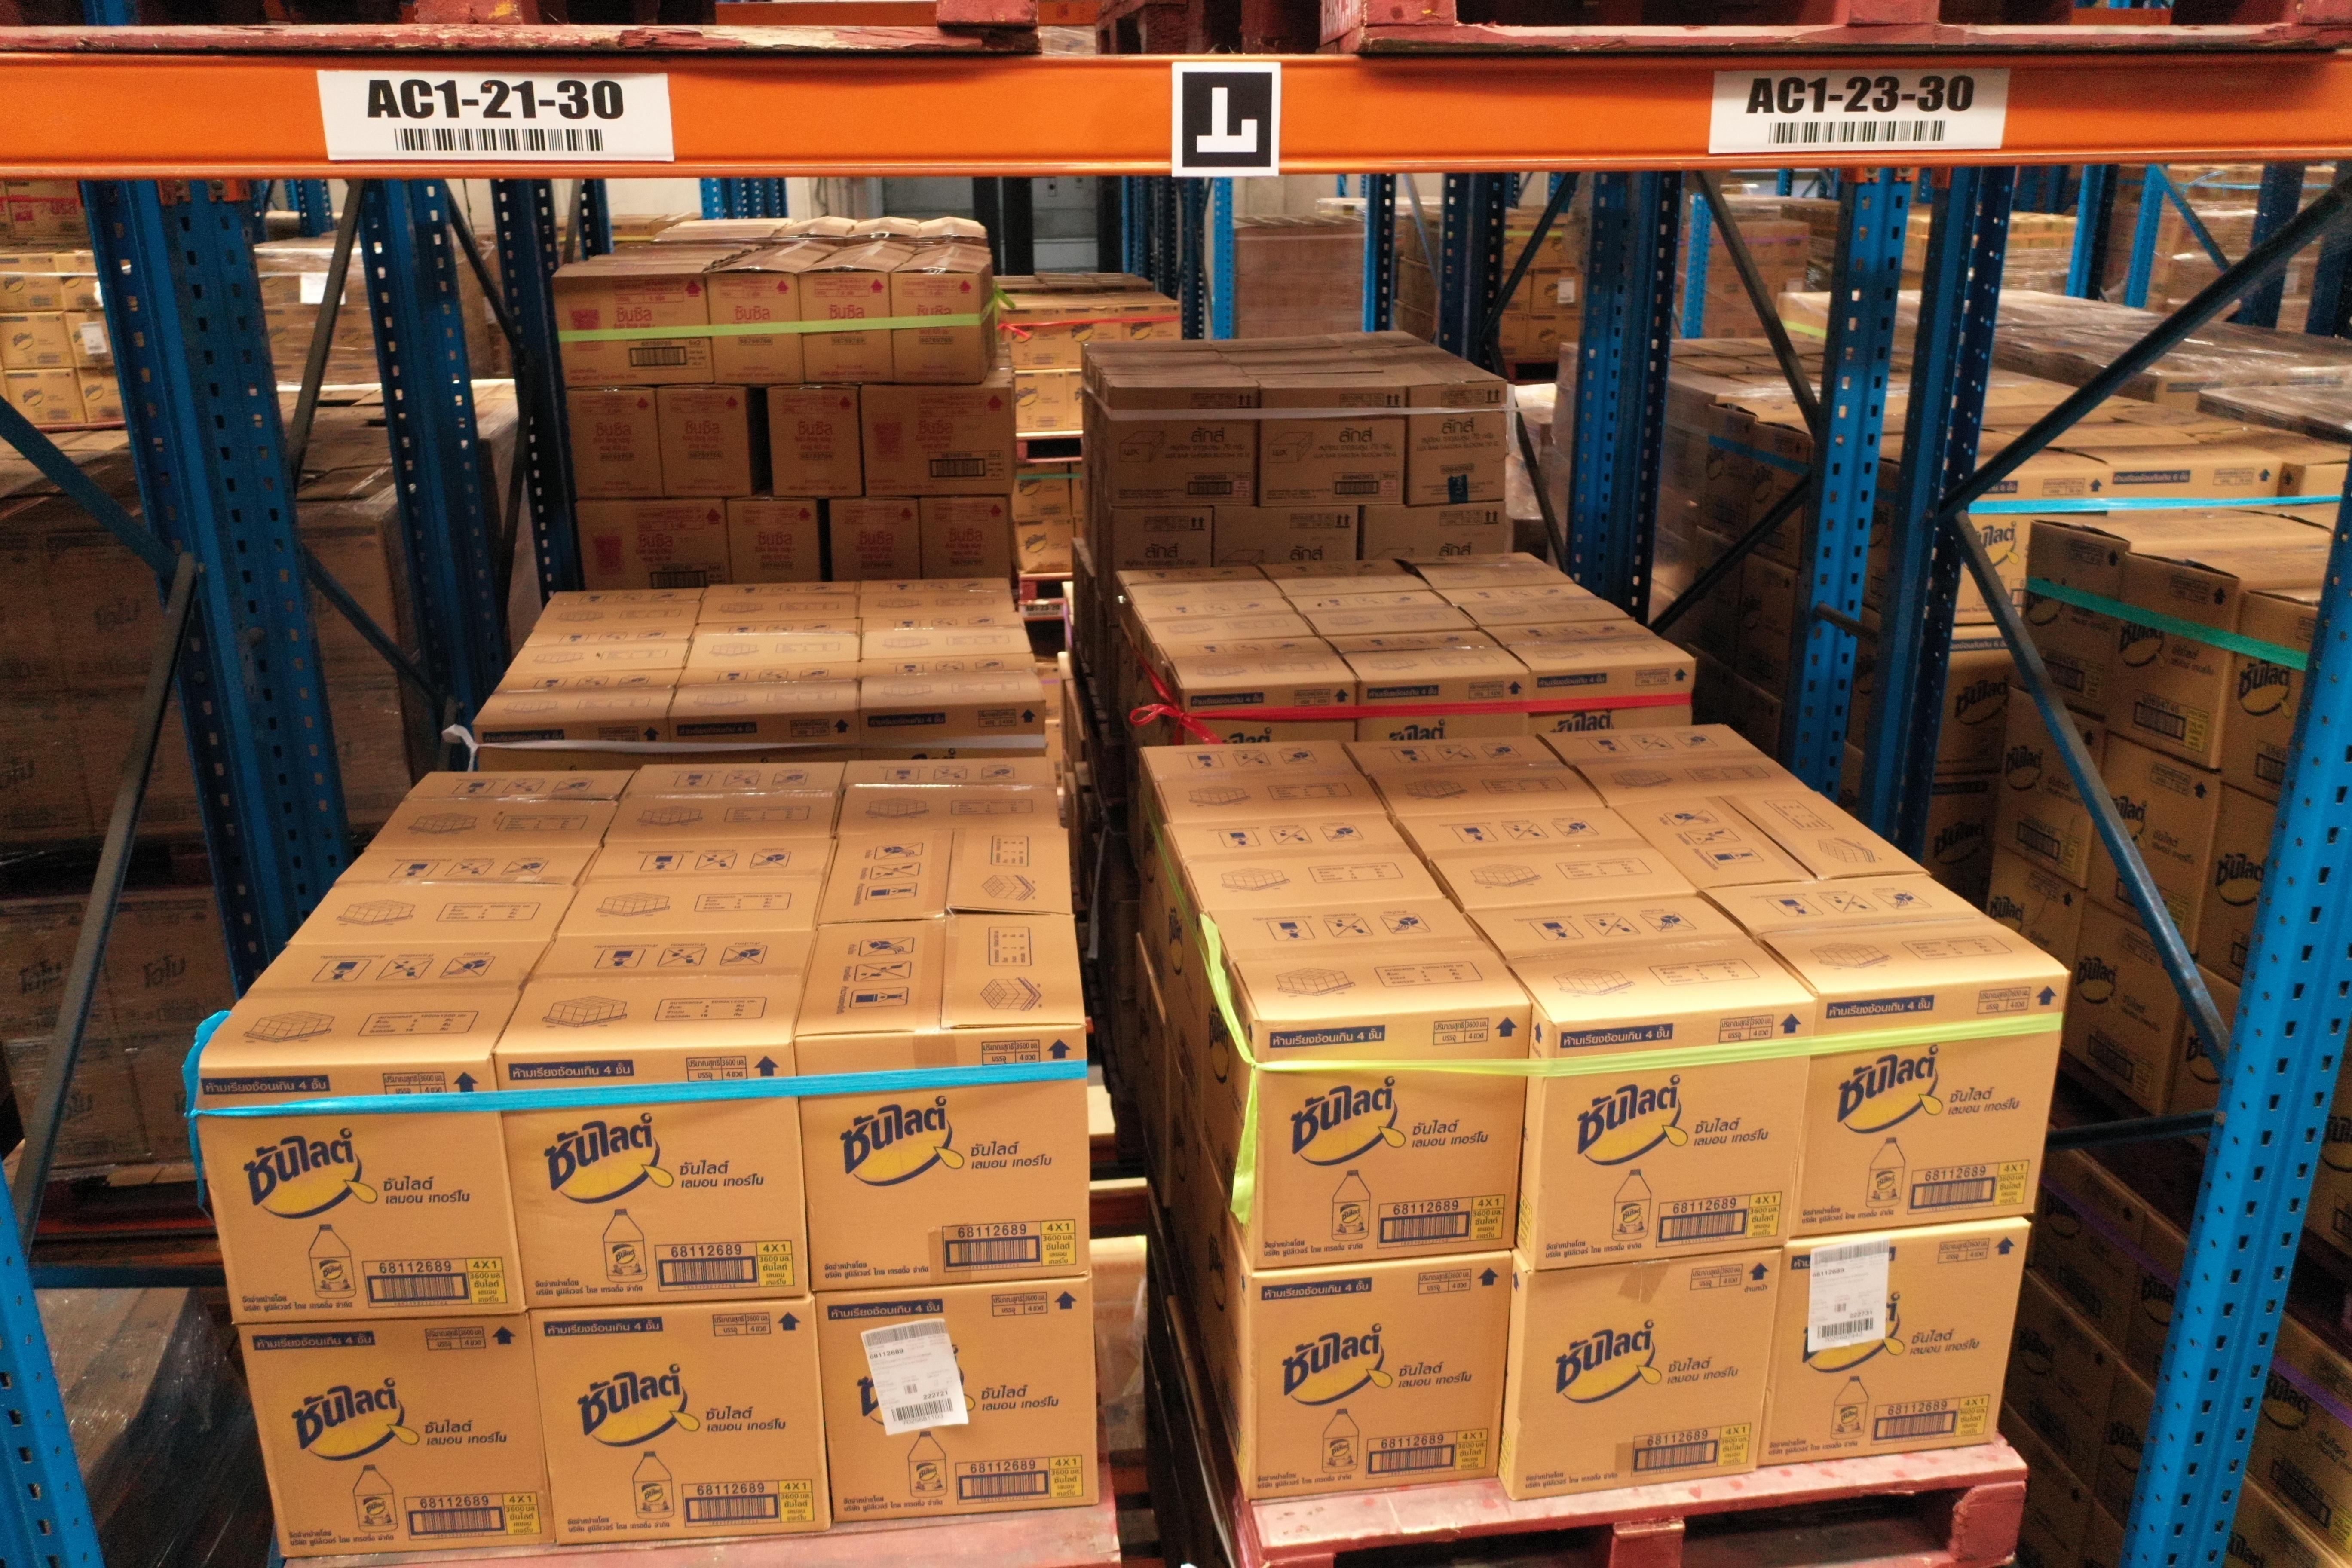-: (178, 1057, 527, 1328), (490, 1046, 810, 1312), (794, 1024, 1090, 1297), (234, 1311, 556, 1561), (1529, 997, 1816, 1272), (1790, 973, 2072, 1244), (528, 1298, 833, 1545), (1256, 1004, 1533, 1269), (814, 1279, 1099, 1526), (1510, 1249, 1781, 1507), (1762, 1216, 2028, 1463), (1246, 1255, 1514, 1500)
2: (86, 889, 236, 1038), (70, 688, 206, 842), (549, 271, 716, 388), (3, 1032, 147, 1167), (1111, 385, 1260, 511), (1258, 385, 1407, 509), (52, 548, 177, 693), (0, 894, 121, 1043), (859, 385, 1011, 502), (296, 525, 395, 688), (0, 695, 94, 850), (576, 499, 730, 591), (1407, 380, 1507, 511), (327, 672, 411, 822), (703, 271, 805, 387), (796, 269, 896, 383), (0, 549, 73, 703), (654, 383, 751, 500), (887, 269, 983, 385), (567, 385, 661, 502), (768, 387, 861, 500), (723, 499, 819, 586), (829, 499, 922, 584), (917, 499, 1008, 581)
